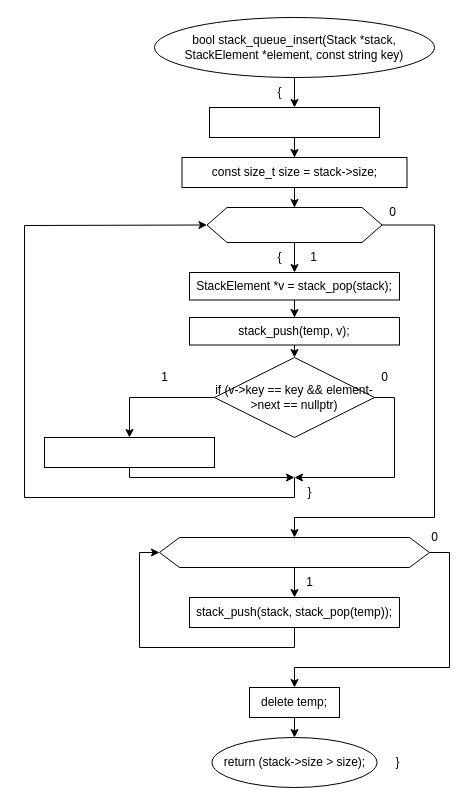
This 475x805 diagram has some shape labels left out. The shapes that lost their labels are listed below. From the top down, each one's centre as x and y in pixels, then its label:
At [294,122]: "Stack *temp = new Stack();".
At [294,224]: "for (int i = 1; i <= size; i++)".
At [129,452]: "stack_push(temp, element);".
At [294,552]: "for (int i = 1, size = temp->size; i <= size; i++)".
